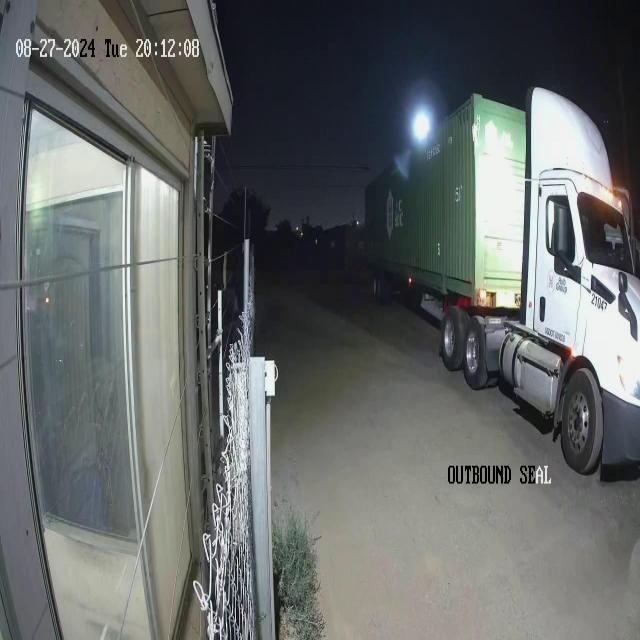CONTAINER: (363, 84, 525, 315)
